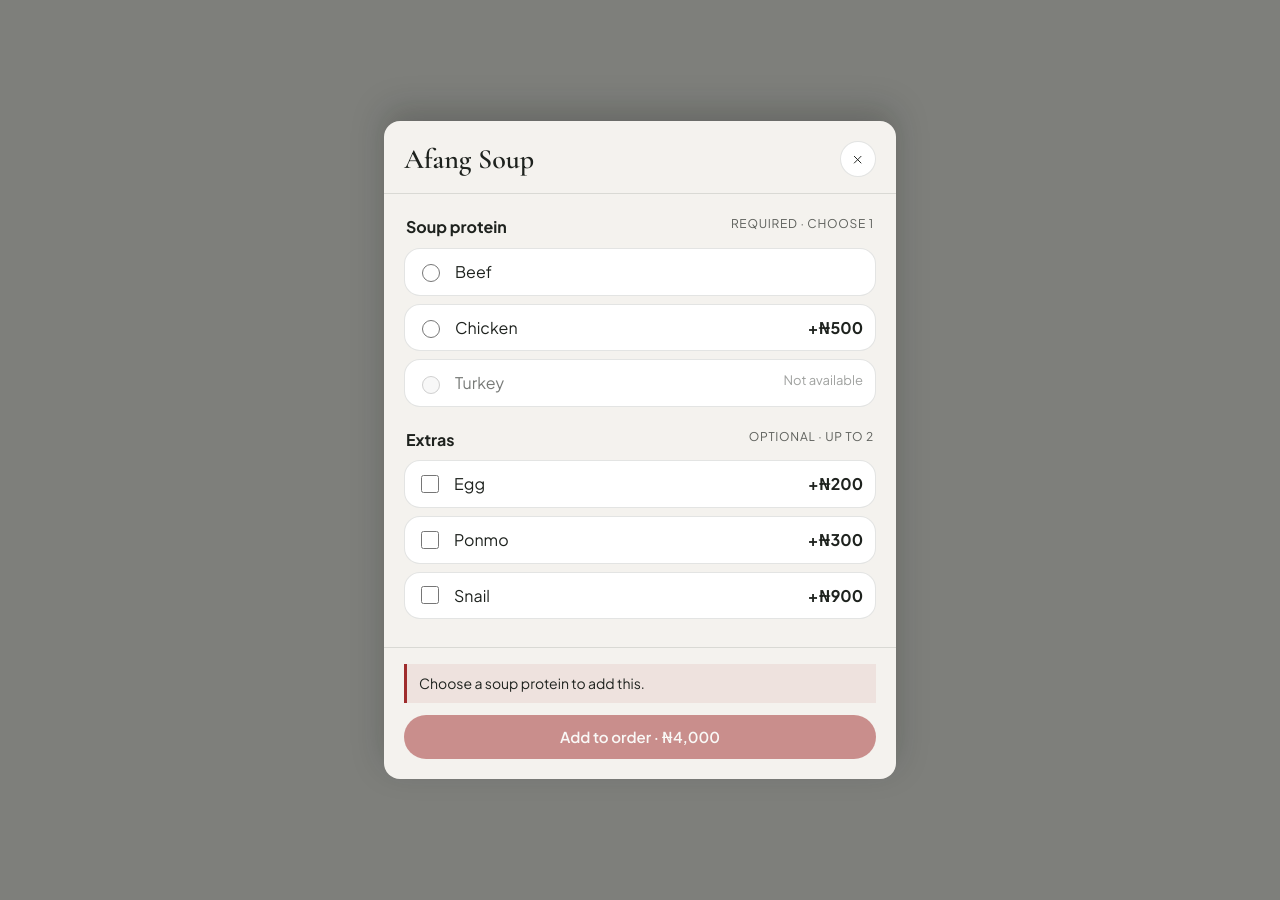
Test case: OptionSheet › uses checkboxes for several choices and stops at the maximum
This screenshot has width=1280, height=900.
Step 1. Click the radio button labelled "Beef" → (431, 273), box [422, 264, 440, 282]
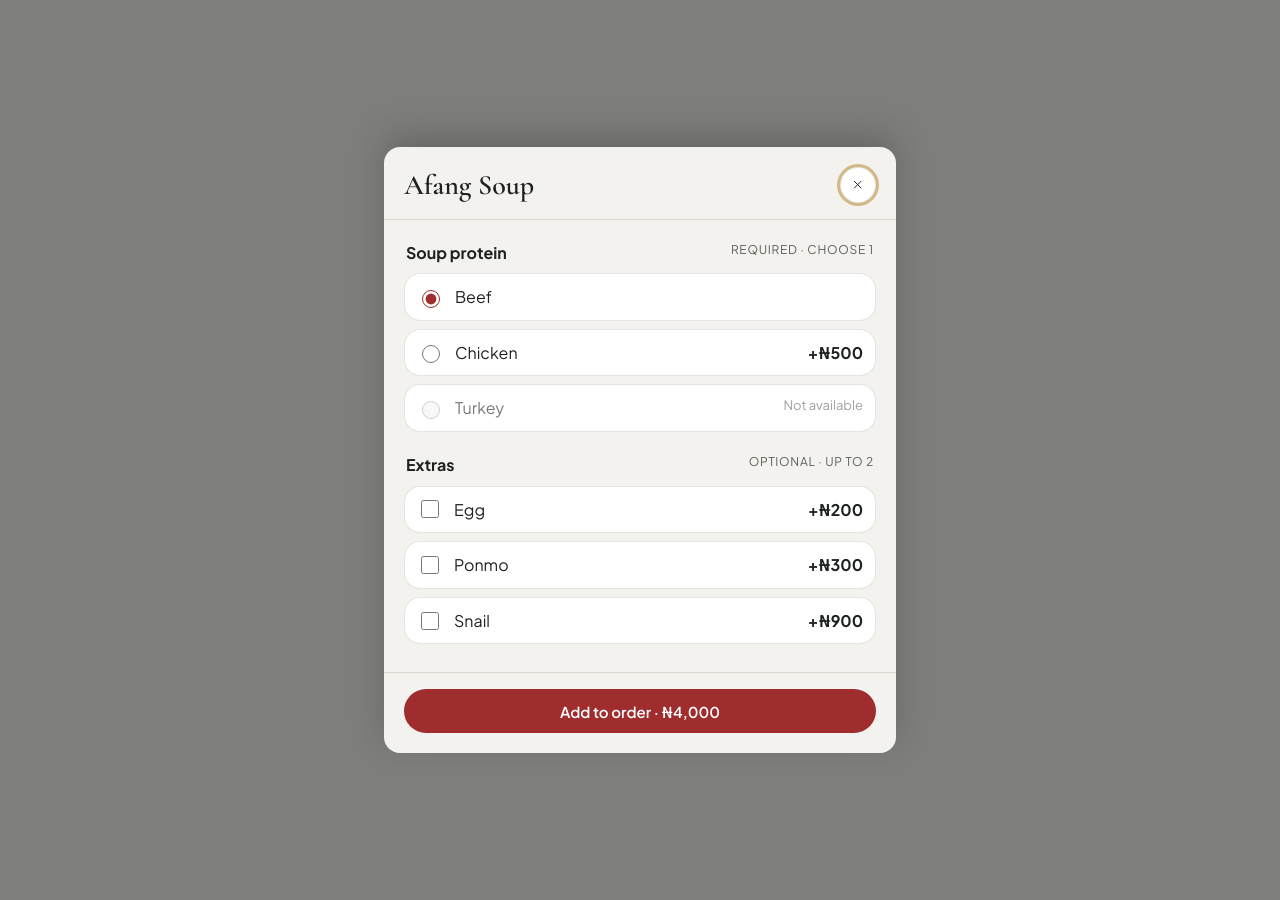
Expected: the element showing "Extras Optional · up to 2 Egg +₦200 Ponmo +₦300 Snail +₦900" is shown, [404, 452, 876, 652]
Step 2. Click the checkbox labelled "Egg +₦200" → (430, 509), box [421, 500, 439, 518]
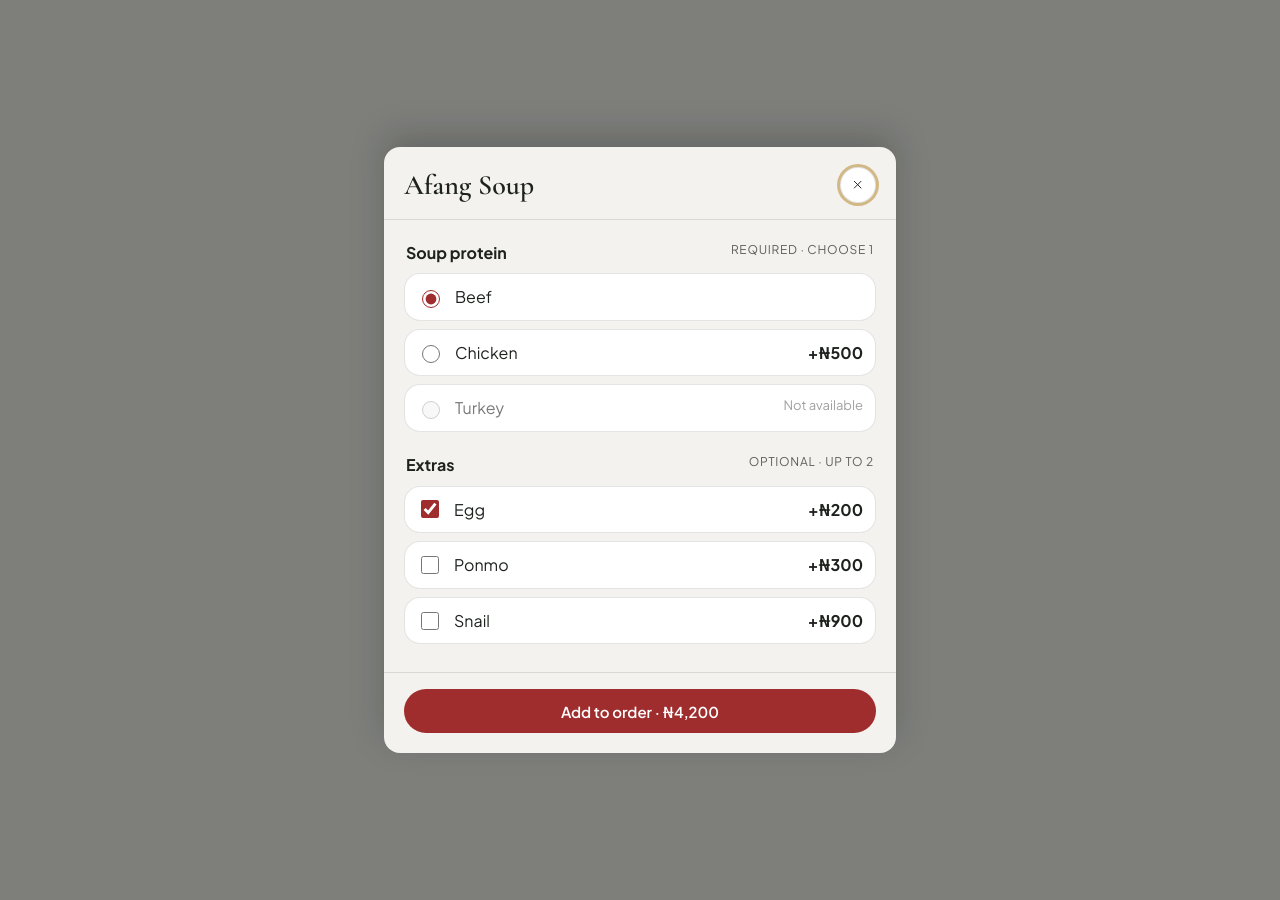
Step 3. Click the checkbox labelled "Ponmo +₦300" → (430, 565), box [421, 556, 439, 574]
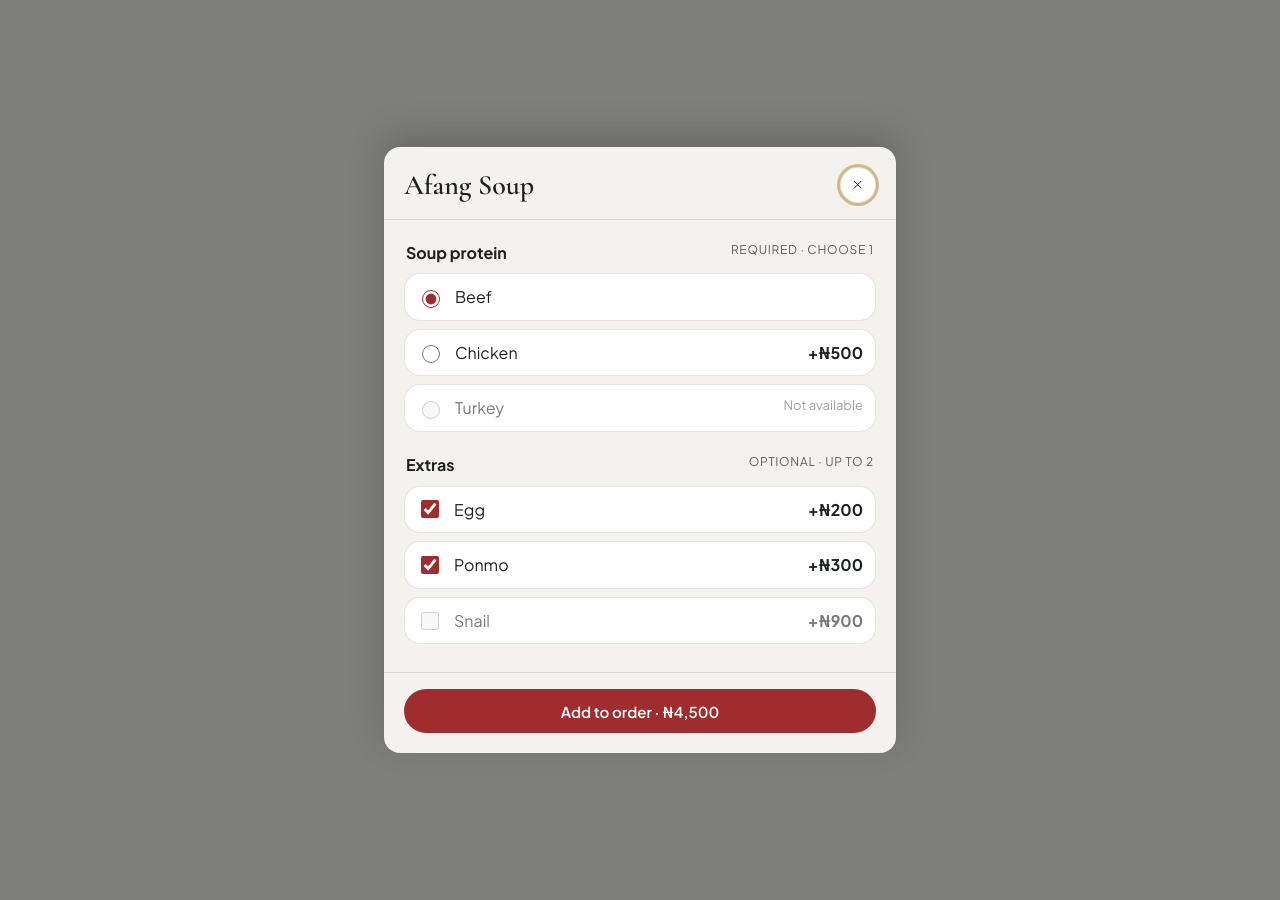
Result: the checkbox labelled "Snail +₦900" is disabled at [421, 612, 439, 630]
Result: the button with test id "add-with-options" reads "Add to order · ₦4,500" at [404, 689, 876, 733]
